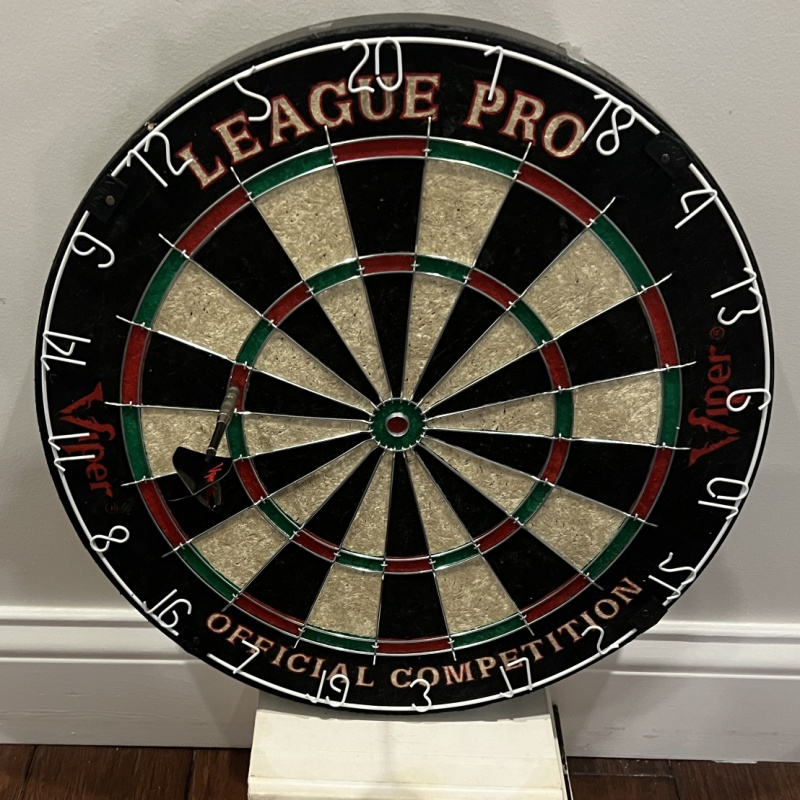dart: (223, 381, 244, 404)
eleven: (47, 431, 96, 472)
six: (724, 385, 772, 411)
three: (412, 678, 432, 713)
twenty: (345, 40, 402, 91)
